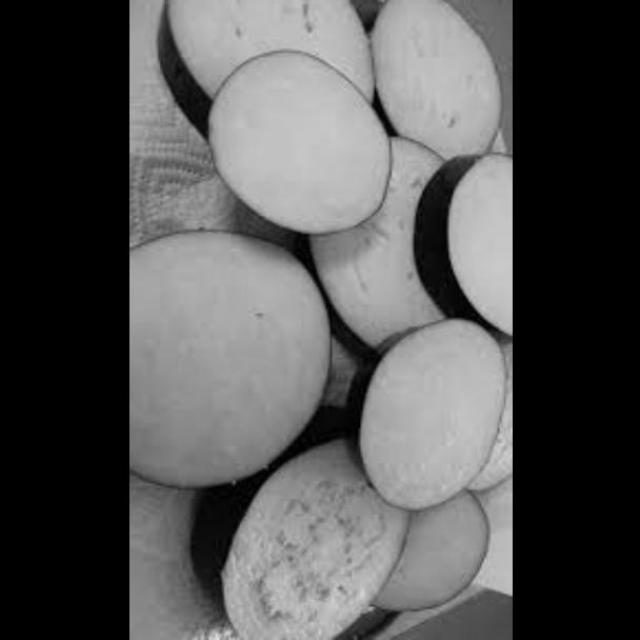ca tim: (135, 222, 330, 500), (205, 421, 417, 640), (290, 124, 464, 363), (214, 49, 398, 230), (344, 322, 509, 522), (160, 0, 380, 144), (367, 0, 513, 168), (409, 144, 513, 361), (370, 486, 497, 623)
